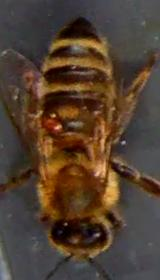varroa_mite: (41, 114, 66, 134)
